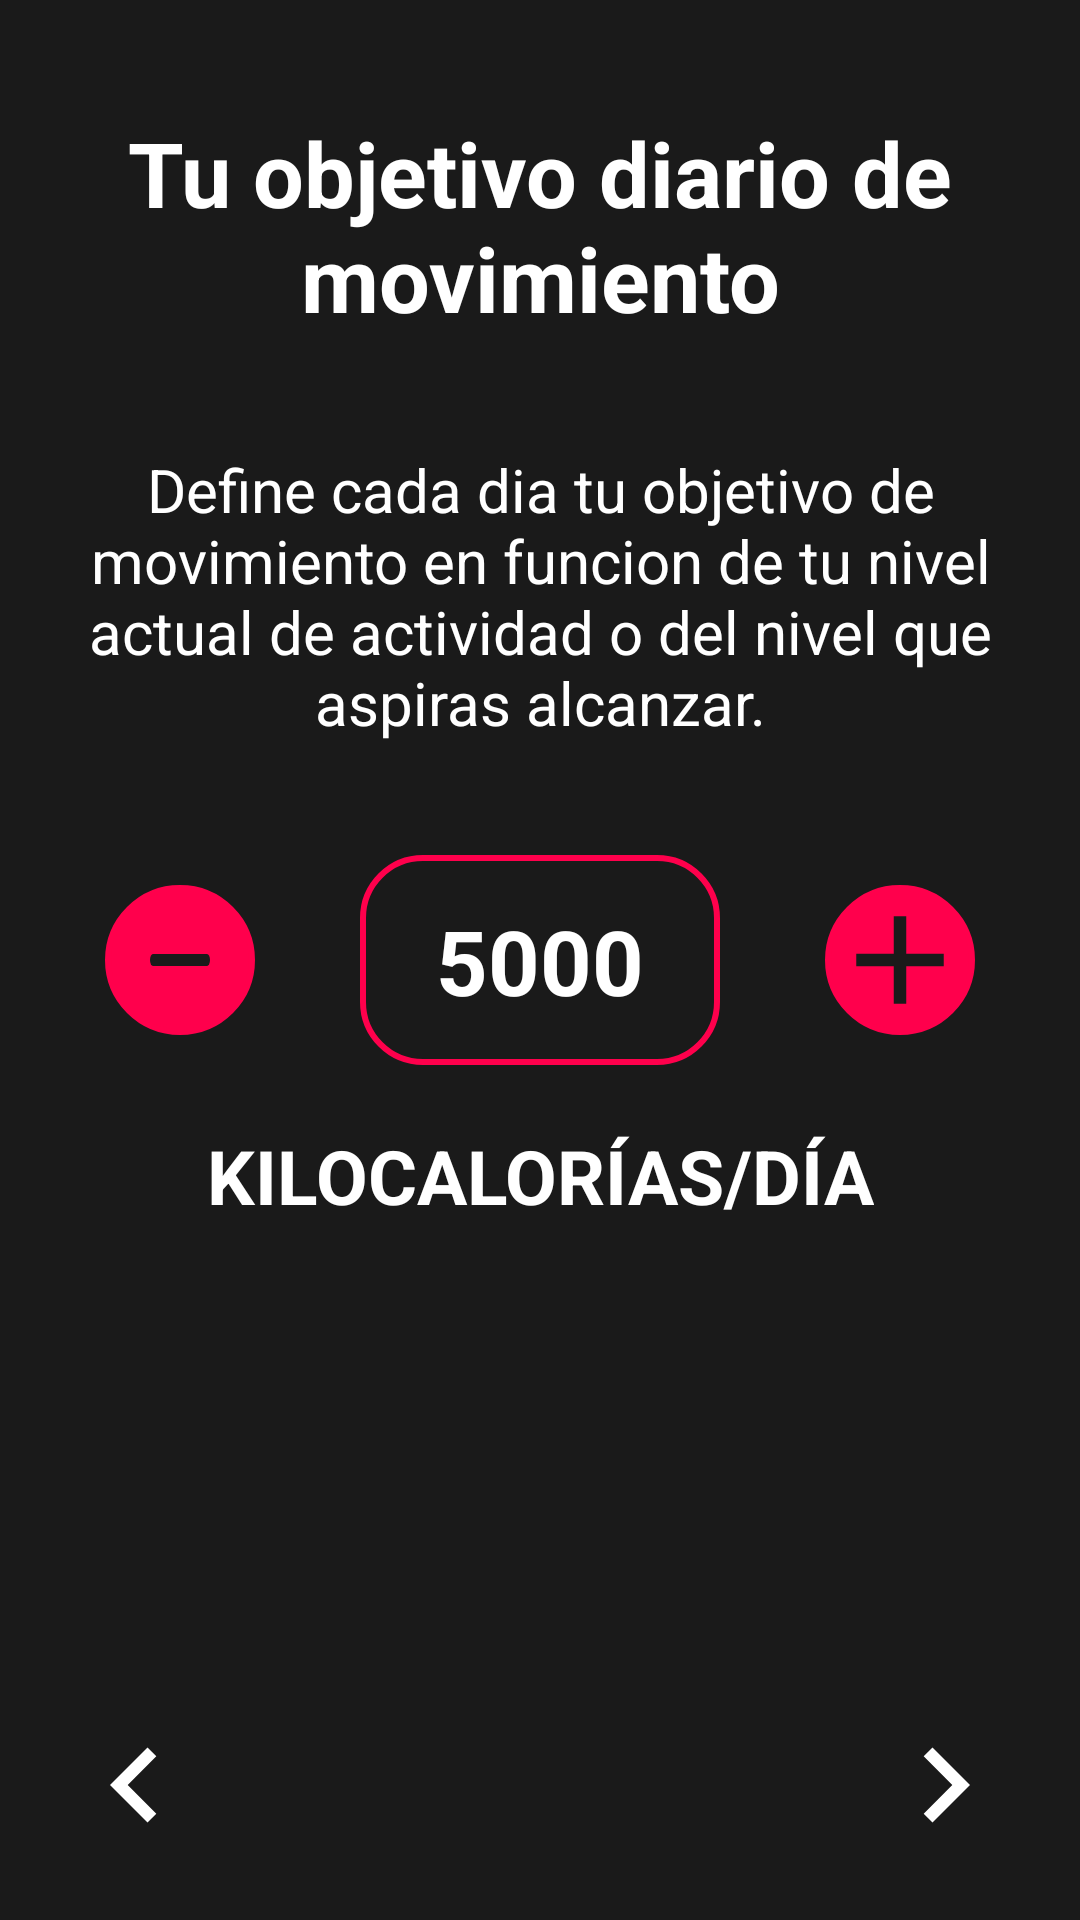

Icons on this 1080x1920 Android screen, each with its box as region(x1, y1, x2, y2):
add: region(825, 885, 975, 1035)
keyboard arrow left: region(110, 1747, 156, 1823)
keyboard arrow right: region(924, 1747, 970, 1823)
rest: region(105, 885, 255, 1035)
